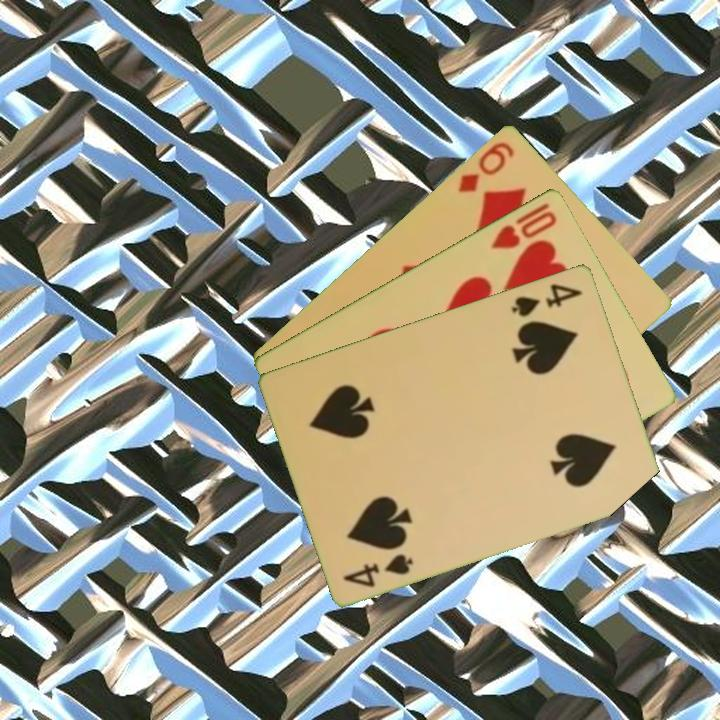10h: (487, 198, 560, 252)
4s: (508, 279, 586, 320), (340, 549, 417, 590)
6d: (454, 137, 517, 195)
